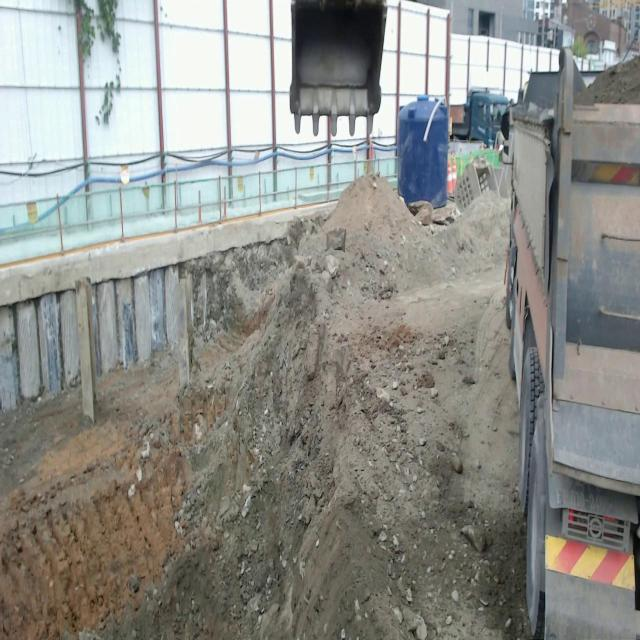red-sand: (0, 245, 529, 639), (578, 56, 640, 104)
